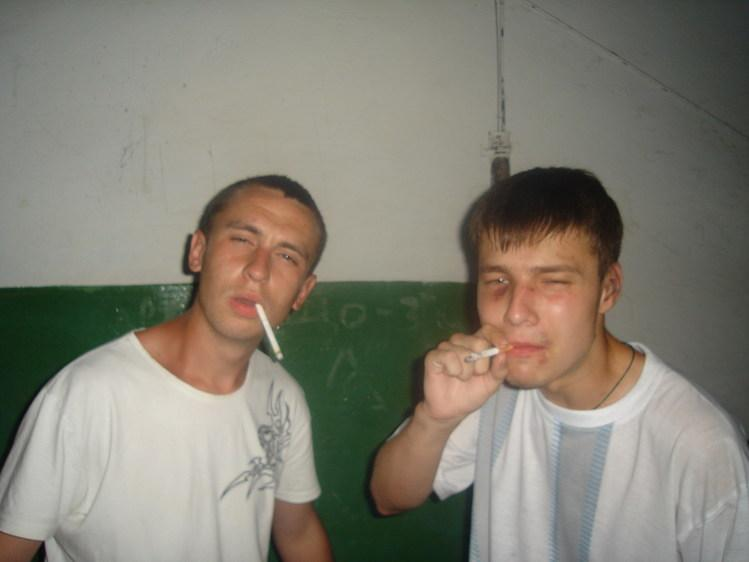cigarette: (255, 303, 284, 360), (464, 343, 514, 364)
